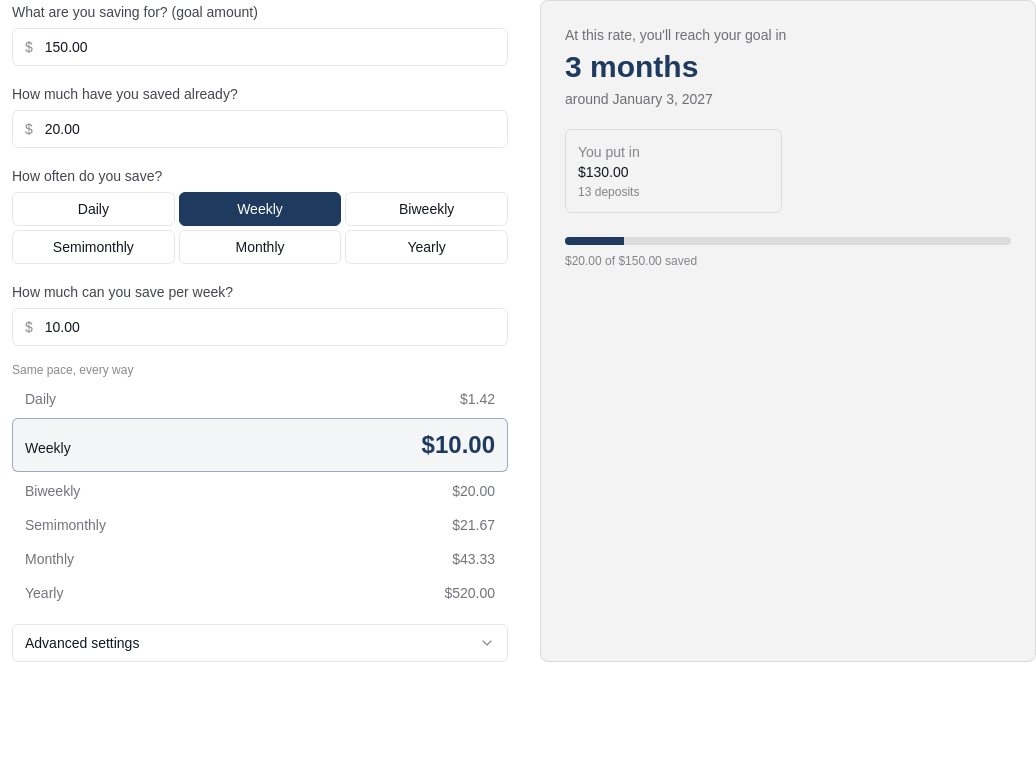
Sinking Fund Calculator › switches the question with the frequency
Click the button "Semimonthly": (93, 247) [12, 230, 175, 264]
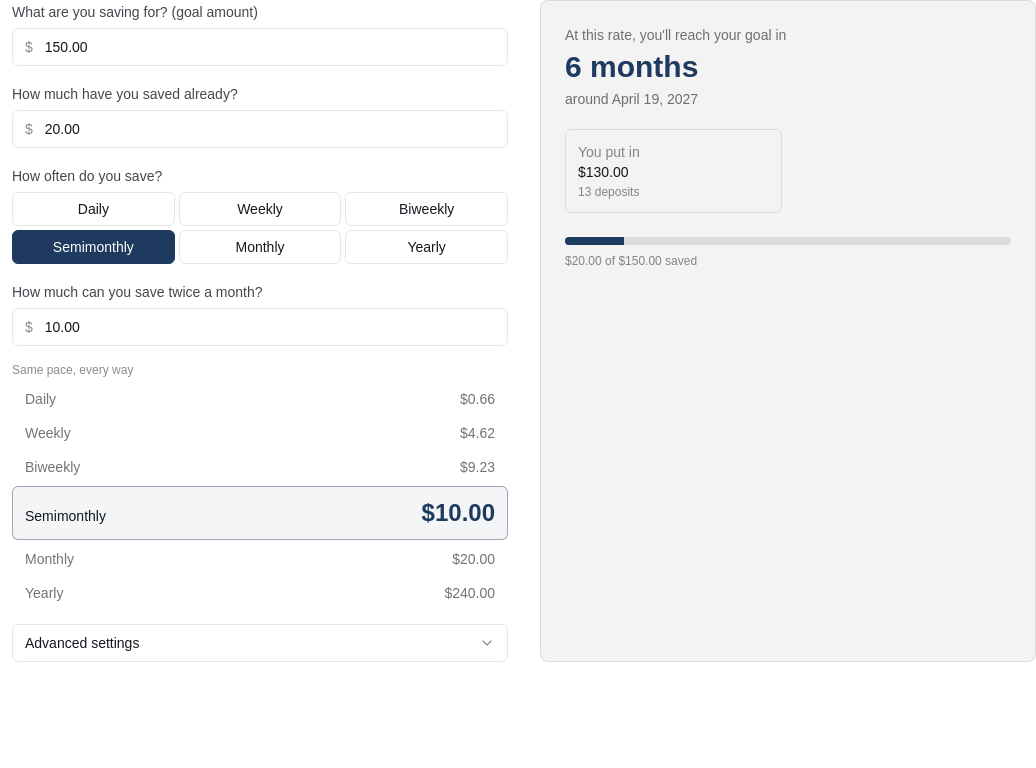
Expected: the text "How much can you save twice a month?" is shown, [12, 284, 263, 300]
Click the button "Yearly": (427, 247) [345, 230, 508, 264]
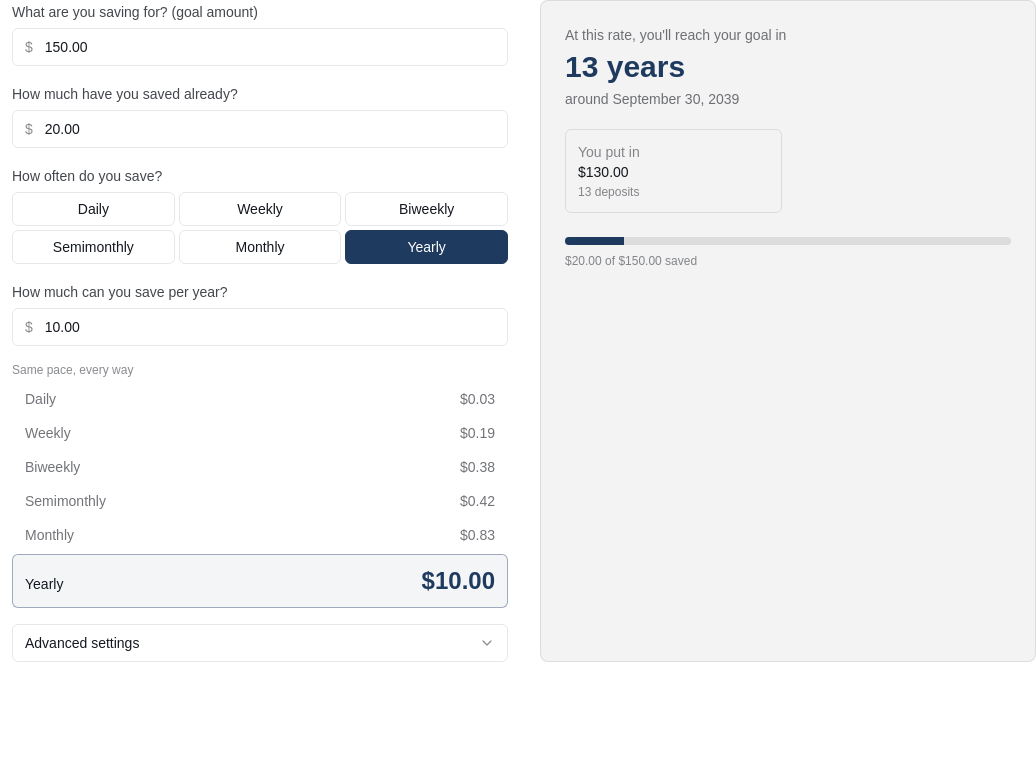
Expected: the text "How much can you save per year?" is shown, [12, 284, 228, 300]
